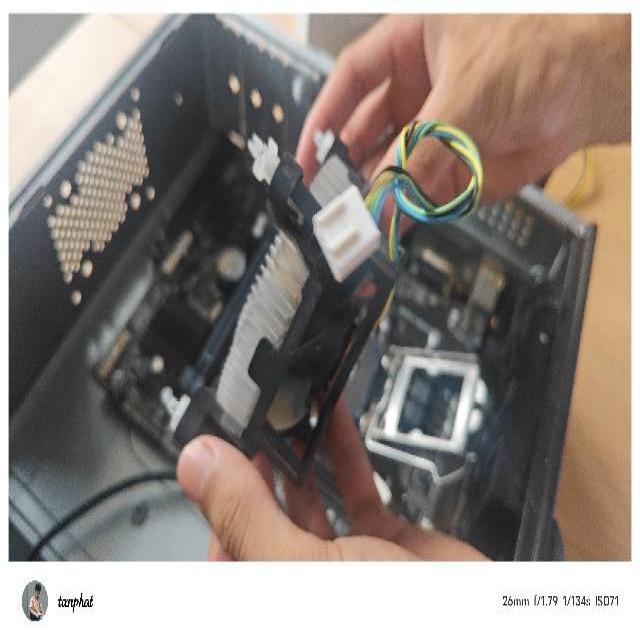CPU_Fan: (157, 108, 456, 490)
